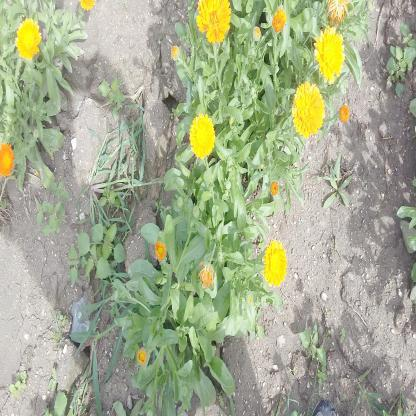marigold: (291, 81, 326, 140), (314, 24, 346, 85), (195, 0, 231, 44), (262, 238, 288, 289), (189, 112, 215, 160), (14, 17, 42, 60), (0, 141, 15, 178)
